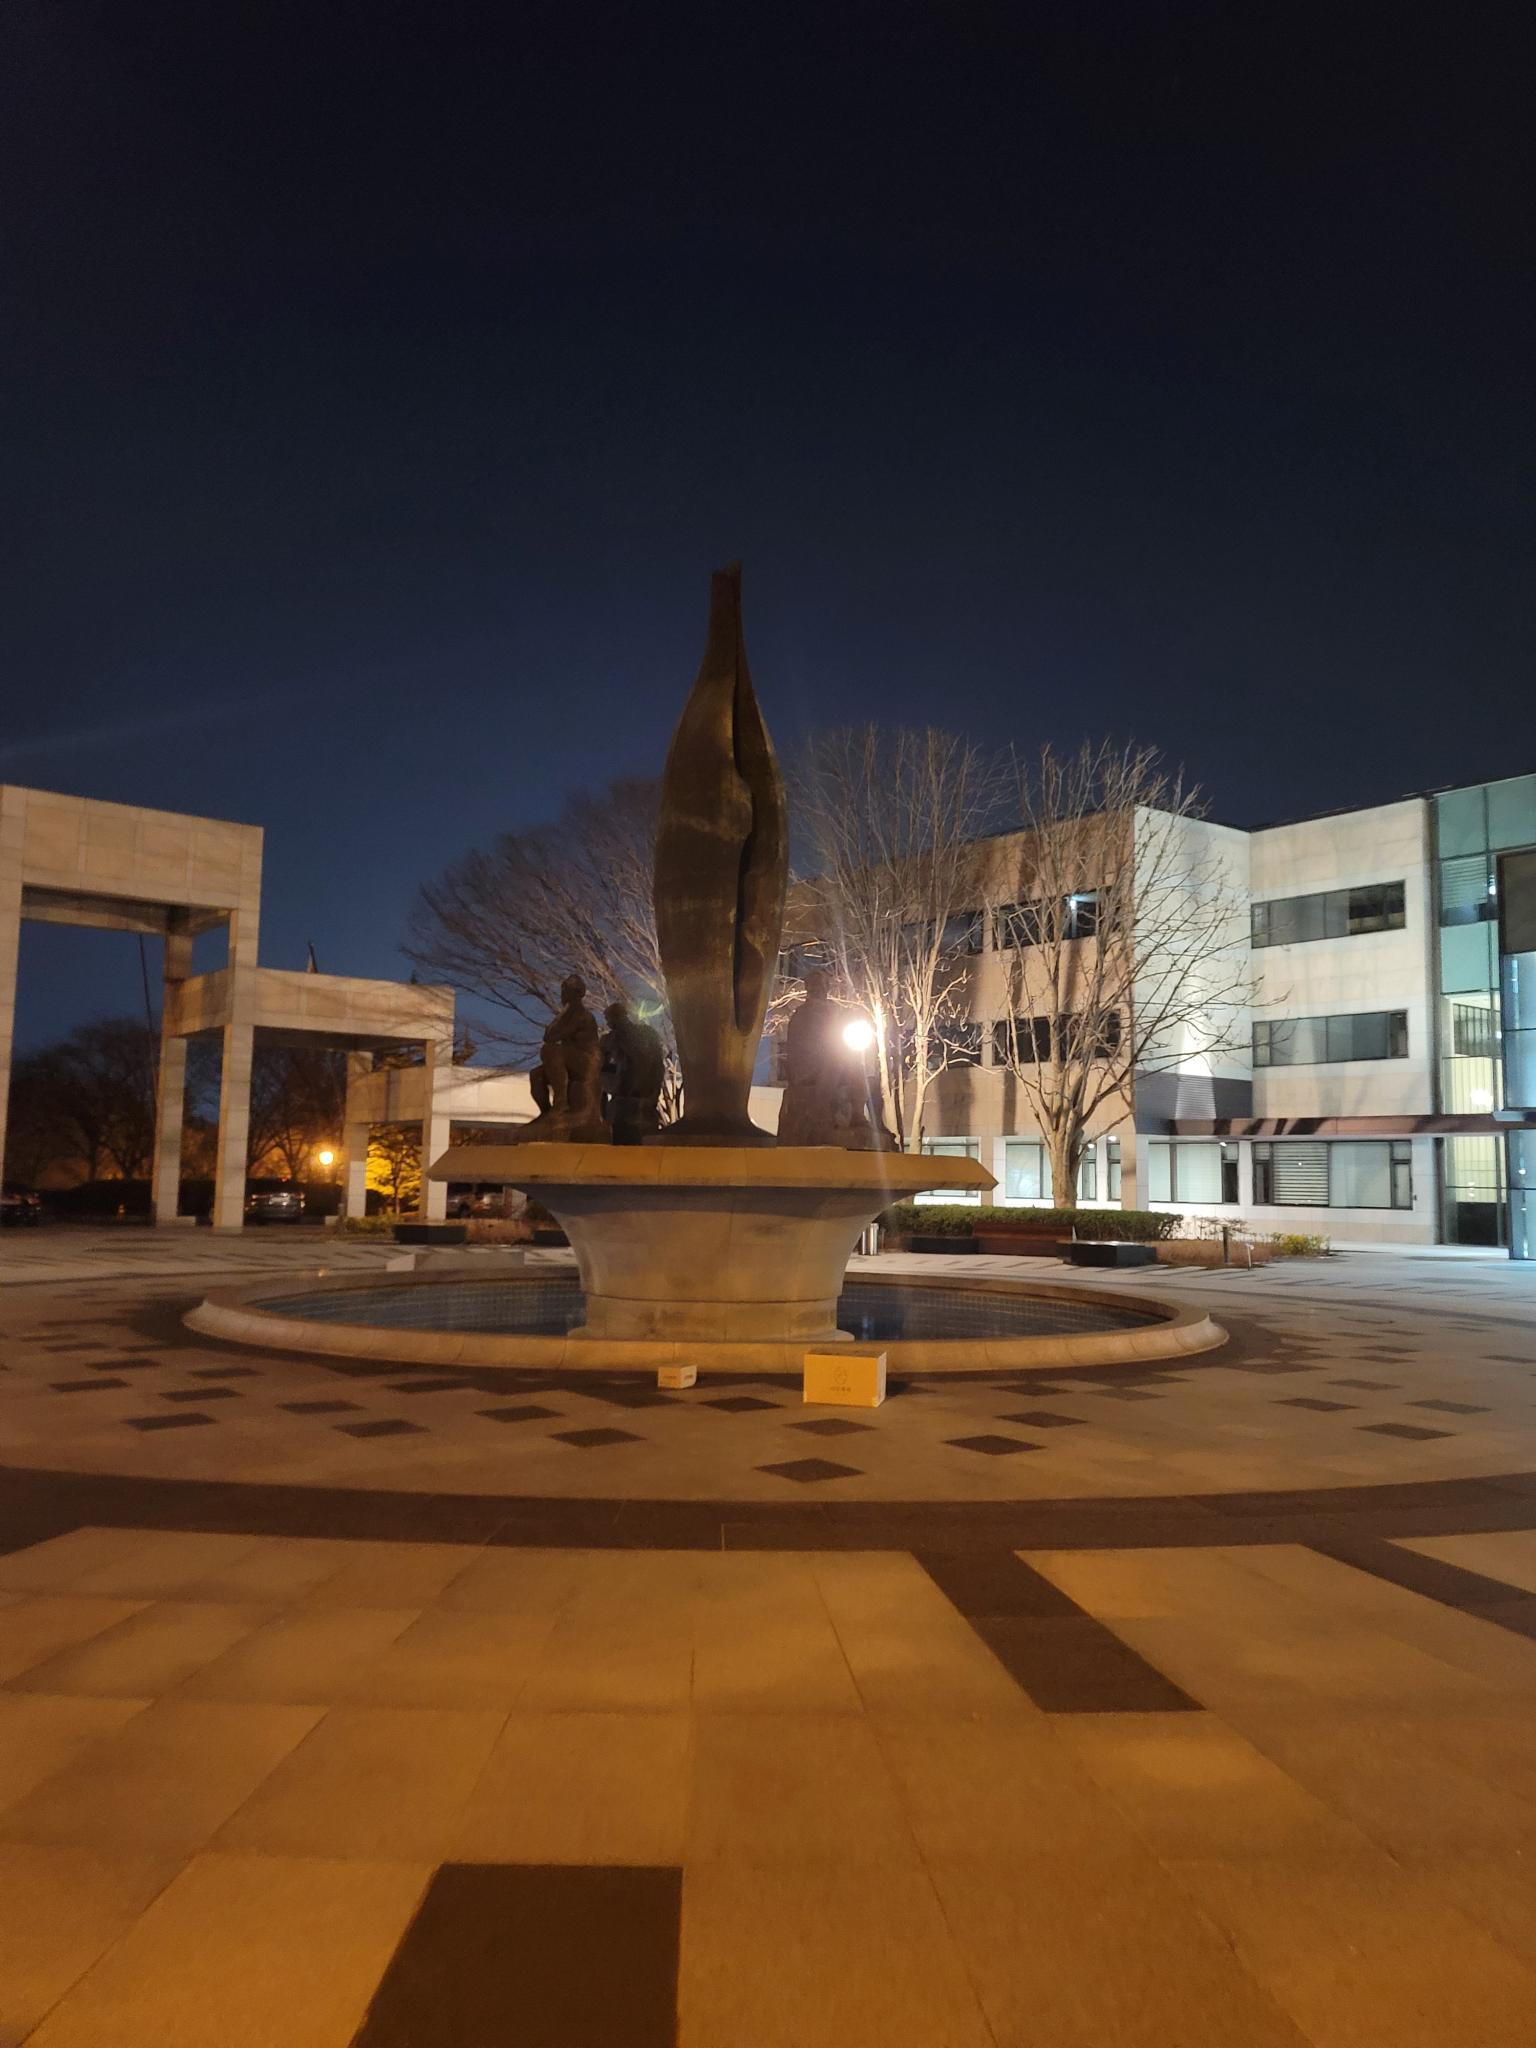Box: (794, 1338, 904, 1413), (650, 1355, 705, 1398)
